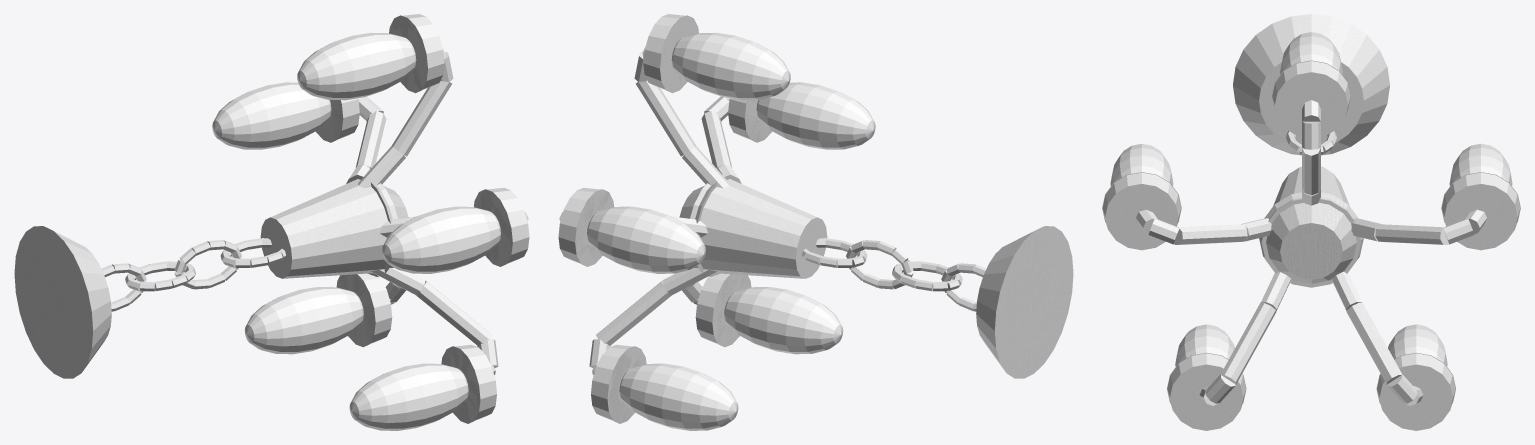
Rendered from basicchandelier.obj.
The picture shows the model from 3 angles, left to right: view 1: azimuth 30°, elevation 25°; view 2: azimuth 150°, elevation 25°; view 3: azimuth 270°, elevation 25°; orthographic projection.
Visible parts, largest first — view 1: Metal, Base, Light1, Light2, Light0, Light3, Light4, Trim; view 2: Metal, Base, Light4, Light3, Light0, Light2, Light1, Trim; view 3: Metal, Base, Trim, Light1, Light4, Light0, Light2, Light3.
Boxes of the visible parts, box(x1,y1,x2,y2) form: Metal: box(101, 14, 529, 422); Base: box(14, 226, 111, 378); Light1: box(382, 206, 500, 273); Light2: box(349, 363, 468, 430); Light0: box(297, 32, 416, 100); Light3: box(244, 287, 363, 354); Light4: box(212, 82, 331, 149); Trim: box(315, 15, 512, 423); Metal: box(558, 14, 986, 423); Base: box(976, 226, 1073, 378); Light4: box(587, 206, 705, 273); Light3: box(619, 363, 738, 430); Light0: box(671, 32, 790, 100); Light2: box(724, 287, 843, 354); Light1: box(756, 82, 875, 149); Trim: box(575, 15, 772, 423); Metal: box(1102, 61, 1520, 430); Base: box(1233, 14, 1389, 155); Trim: box(1102, 60, 1520, 403); Light1: box(1110, 144, 1173, 185); Light4: box(1449, 144, 1512, 185); Light0: box(1280, 32, 1342, 74); Light2: box(1175, 324, 1234, 366); Light3: box(1388, 324, 1447, 366).
Size of the model in its own units: 0.8777 by 0.7671 by 0.7987.
